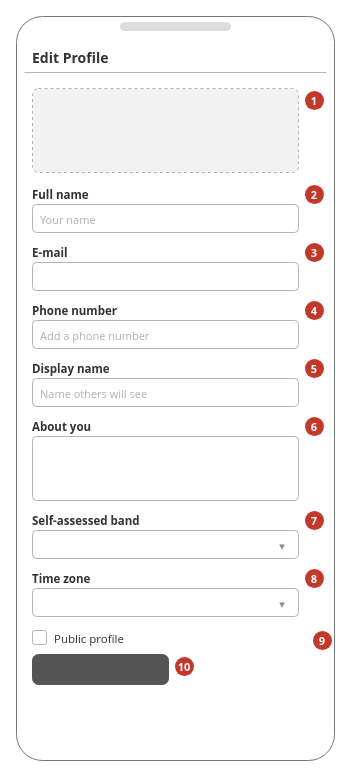
This 351x777 diagram has some shape labels left out. The shapes that lost their labels are listed below. From the top down, each one's centre as x and y in pixels, then its label:
point 165,130: Avatar (JPEG, PNG or WebP, up to 2 MB)
point 100,669: Save changes
